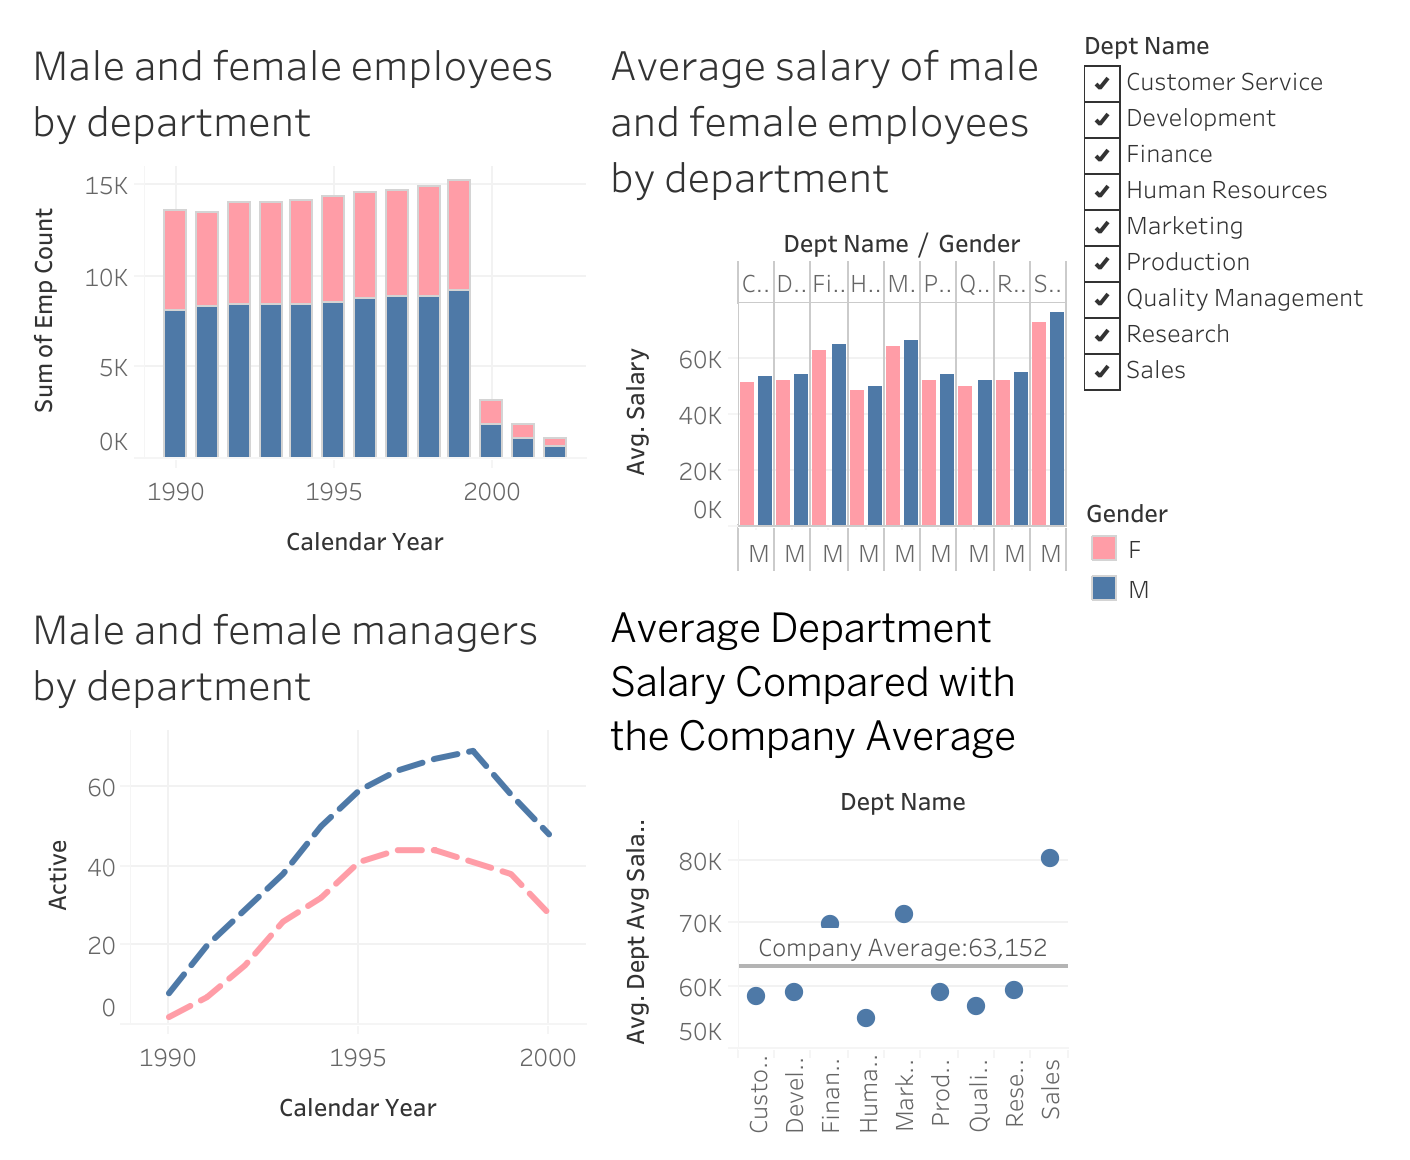

This screenshot's page, from the dashboard's own definition file:
{"tool":"tableau","page":{"name":"Dashboard 1","canvas":[1000,1000],"units":"permille","ordinal":0},"visuals":[{"type":"worksheet","title":"Sheet 1","mark":"Bar","rows":["emp_count"],"cols":["calendar_year"],"box":[6.7,10.6,465.6,489.4]},{"type":"worksheet","title":"Sheet 3","mark":"Automatic","rows":["salary"],"cols":["dept_name","gender"],"box":[472.2,10.6,387.8,489.4]},{"type":"filter","title":"Sheet 1","param":"[federated.10s8ktg1ohbfe3148qy4s0cj2242].[none:dept_name:nk]","box":[860,10.6,133.3,294.4]},{"type":"legend","title":"Sheet 1","param":"[federated.10s8ktg1ohbfe3148qy4s0cj2242].[none:gender:nk]","box":[860,305,133.3,87.5]},{"type":"worksheet","title":"Sheet 2","mark":"Line","rows":["active"],"cols":["calendar_year"],"box":[6.7,500,465.6,489.4]},{"type":"worksheet","title":"Sheet 4","mark":"Circle","rows":["dept_avg_salary"],"cols":["dept_name"],"box":[472.2,500,387.8,489.4]}]}

Visuals, with their boxes on the dashboard's canvas, which has no fixed pixel size, in thousandths of its width and height (x1, y1, x2, y2). These are canvas units, not pixel positions in the 1410x1160 screenshot, which may show the page scaled, cropped or inside an application window:
"Sheet 1" worksheet (Bar marks): bbox=(7, 11, 472, 500)
"Sheet 3" worksheet: bbox=(472, 11, 860, 500)
"Sheet 1" filter: bbox=(860, 11, 993, 305)
"Sheet 1" legend: bbox=(860, 305, 993, 392)
"Sheet 2" worksheet (Line marks): bbox=(7, 500, 472, 989)
"Sheet 4" worksheet (Circle marks): bbox=(472, 500, 860, 989)
